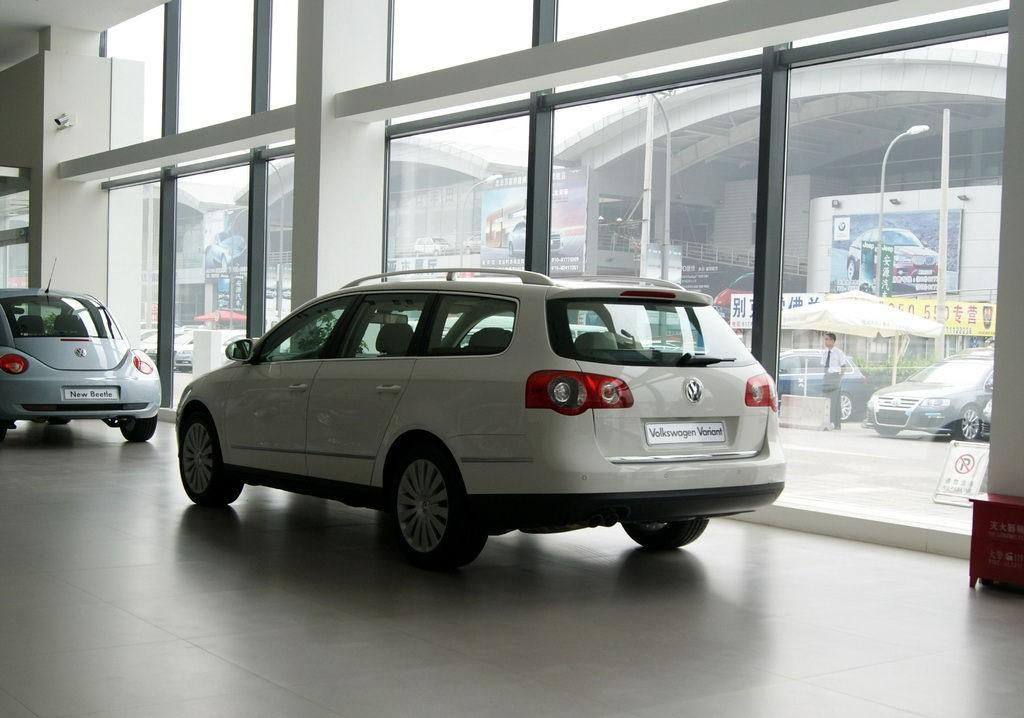Wagon: (175, 266, 786, 566)
